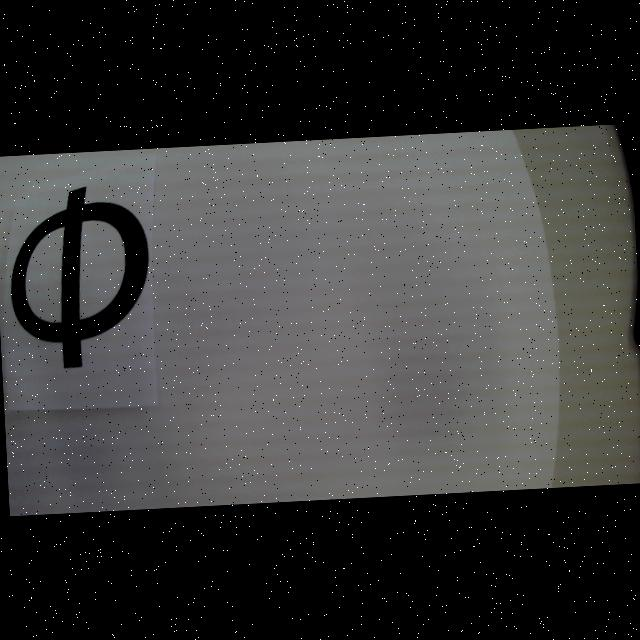PHI: (6, 182, 155, 372)
